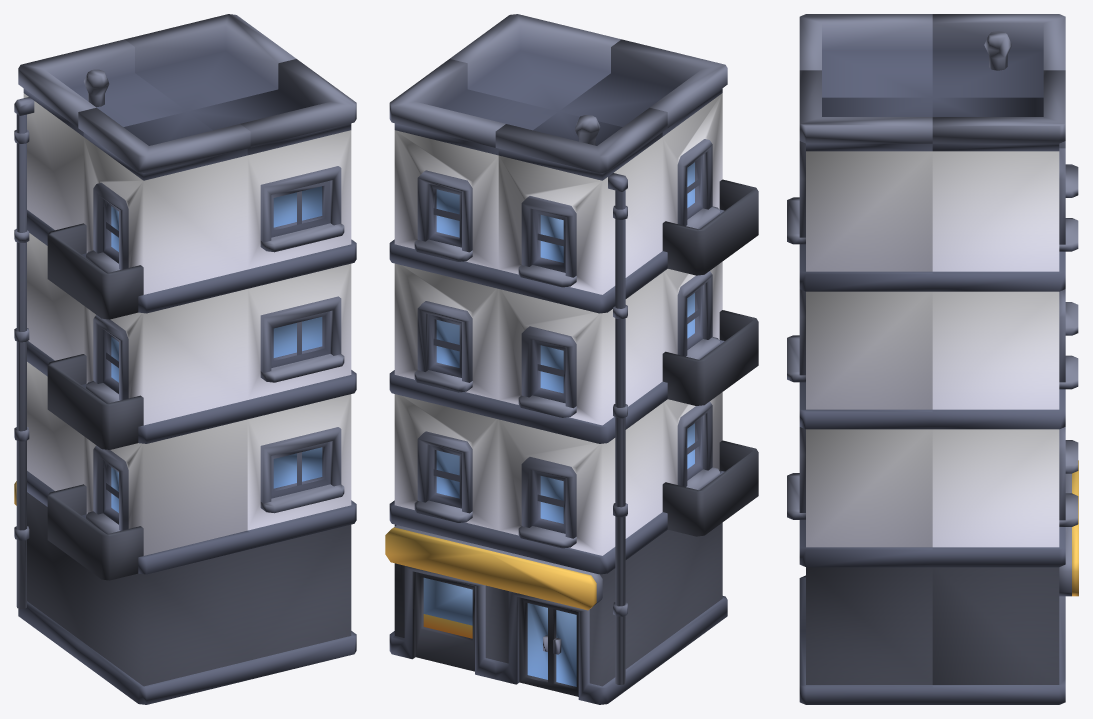
File: building-g_lev1.glb
3 views of the same model, side by side, from view 1: azimuth 30°, elevation 25°; view 2: azimuth 150°, elevation 25°; view 3: azimuth 270°, elevation 25° (orthographic). The views are drawn at different scales.
Visible parts, largest first — view 1: building-g_lev1; view 2: building-g_lev1; view 3: building-g_lev1.
Boxes of the visible parts, x1,y1,x2,y2 form: building-g_lev1: (14, 14, 356, 704); building-g_lev1: (385, 14, 758, 704); building-g_lev1: (787, 14, 1078, 704).
Size of the model in its own units: 4.85 by 10.16 by 4.61.
1 material, 1 textured.
